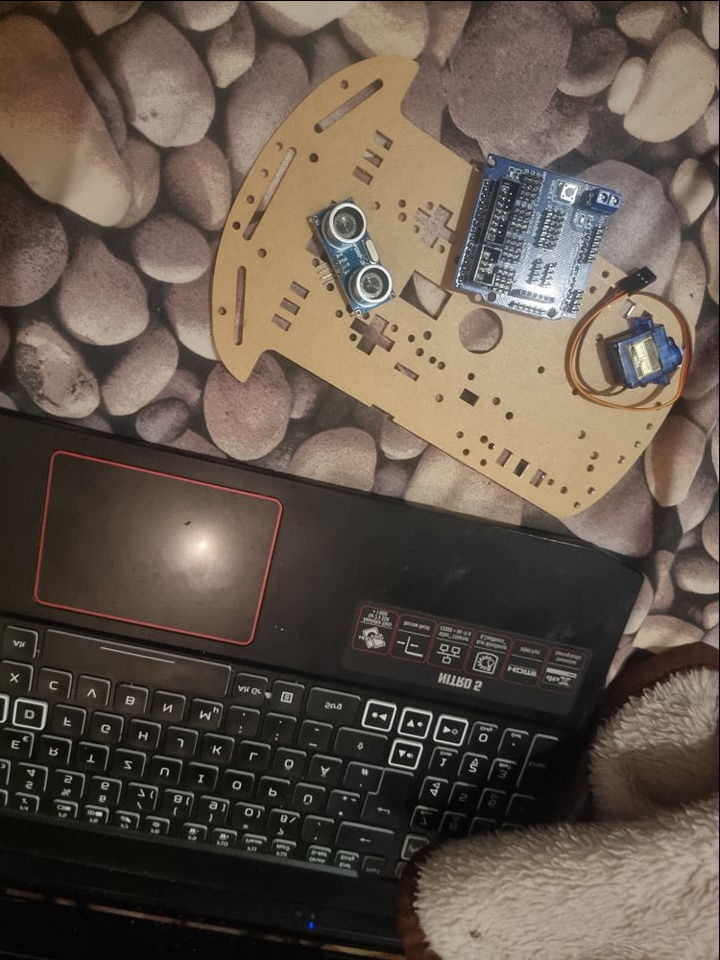5V EXPANSION: (456, 149, 623, 317)
SENSOR: (307, 199, 399, 315)
